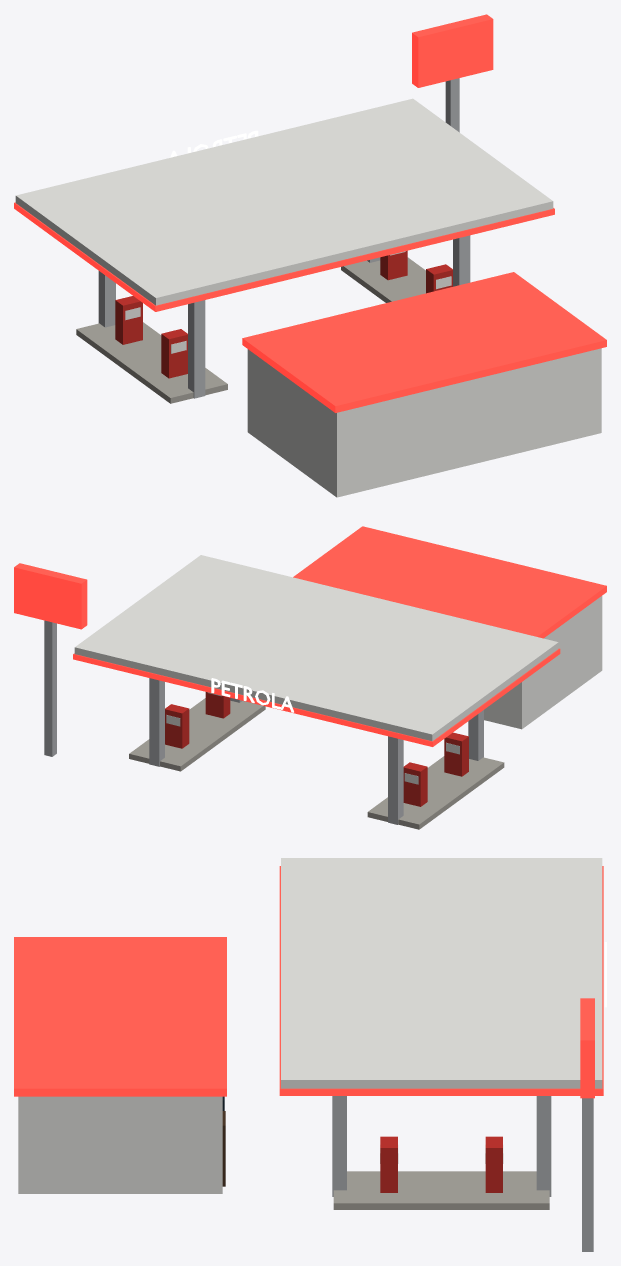
File: bld_gas.glb
The picture shows the model from 3 angles, top to bottom: view 1: azimuth 30°, elevation 25°; view 2: azimuth 150°, elevation 25°; view 3: azimuth 270°, elevation 25°; orthographic projection. The views are drawn at different scales.
Parts seen in each view (by area): view 1: bld_gas__mesh; view 2: bld_gas__mesh, bld_gas__sign; view 3: bld_gas__mesh.
Part boxes in pixels (x1,y1,x2,y2): bld_gas__mesh: (14, 14, 606, 497); bld_gas__mesh: (14, 526, 606, 829); bld_gas__sign: (211, 678, 293, 712); bld_gas__mesh: (14, 858, 603, 1251).
Size of the model in its own units: 21.25 by 8.7 by 20.31.
